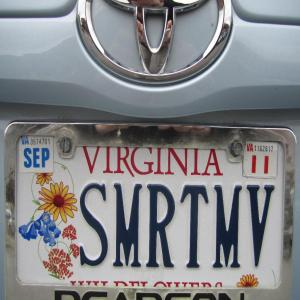Vehicle-registration-plate: (5, 126, 300, 299)
